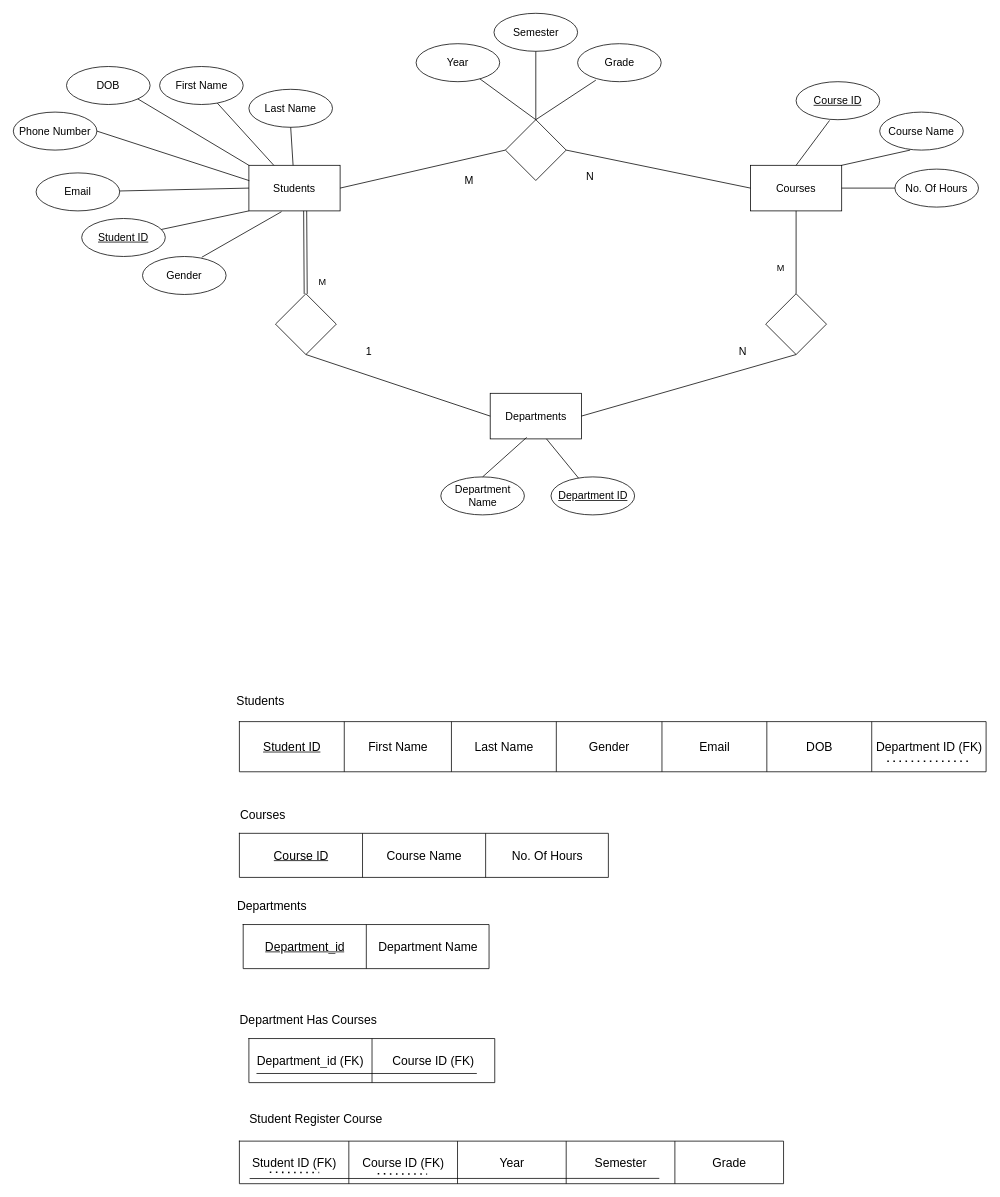
Image size: 1000x1197. Some labels were removed from this diagram. The box of each missing label's shape, as (x1, y1, x2, y2) in pixels:
Assigned: (275, 293, 336, 355)
HAS: (765, 293, 826, 355)
Register: (505, 119, 566, 180)
